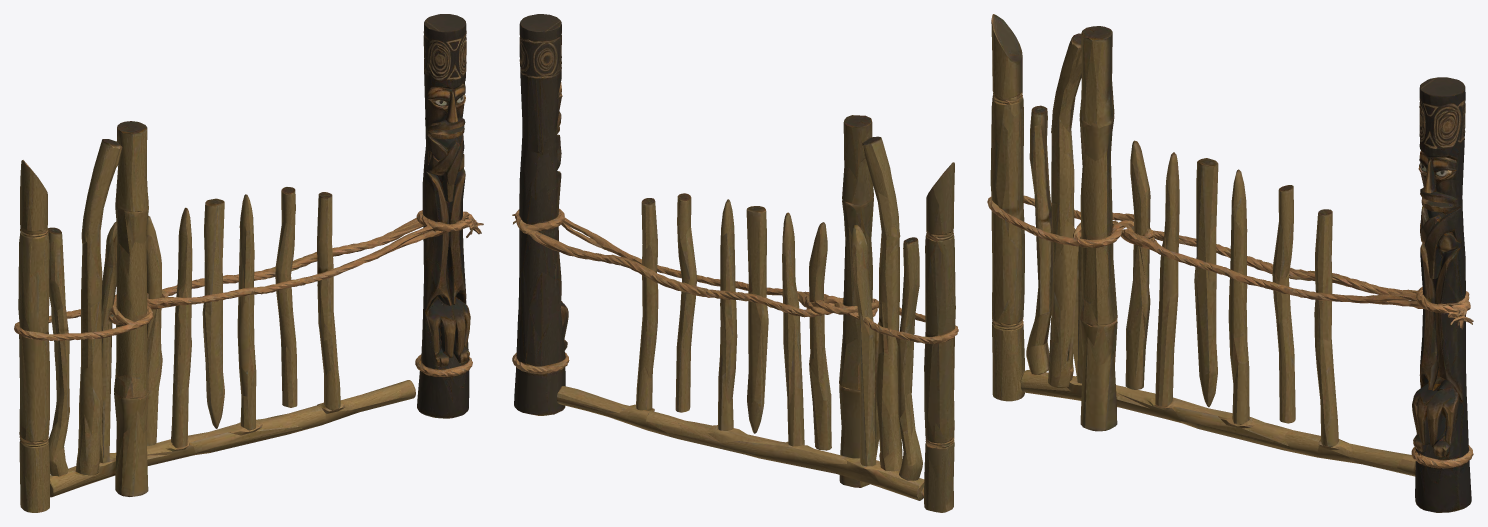
Rendered from palisade.glb.
3 renders of one model, left to right at view 1: azimuth 30°, elevation 25°; view 2: azimuth 150°, elevation 25°; view 3: azimuth 330°, elevation 25°, orthographic. The views are drawn at different scales.
Parts seen in each view (by area): view 1: mesh_node; view 2: mesh_node; view 3: mesh_node.
Boxes of the visible parts, <box> form: mesh_node: <box>14,14,483,512</box>; mesh_node: <box>512,14,958,512</box>; mesh_node: <box>987,14,1473,512</box>.
Size of the model in its own units: 1.9 by 1.55 by 0.227.
Materials: 1 (1 with a texture image).
